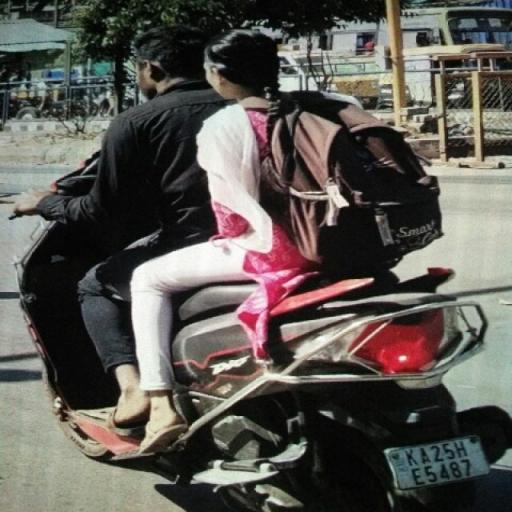bike: (6, 17, 492, 512)
numberplate: (383, 430, 491, 498)
withouthelmet: (207, 28, 273, 98), (136, 26, 199, 92)
